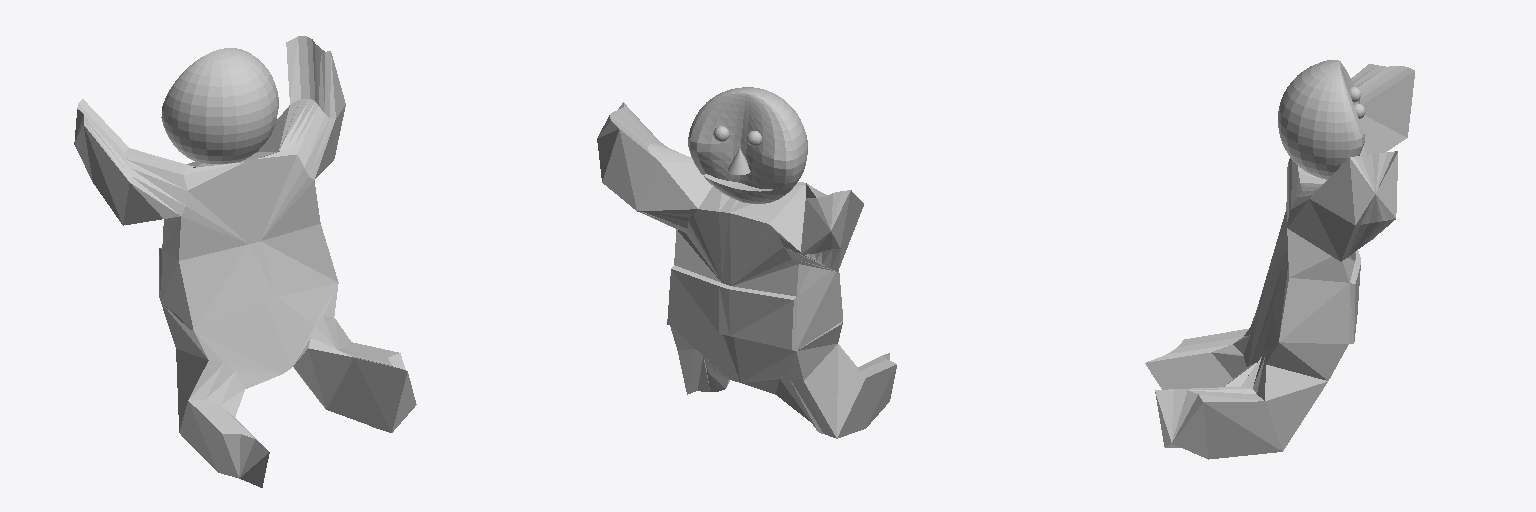
File: manjump_000017.obj
3 views of the same model, side by side, from view 1: azimuth 30°, elevation 25°; view 2: azimuth 150°, elevation 25°; view 3: azimuth 270°, elevation 25° (orthographic).
Parts seen in each view (by area): view 1: Cube; view 2: Cube; view 3: Cube.
Boxes of the visible parts, box(x1,y1,x2,y2) form: Cube: box(74, 36, 416, 487); Cube: box(597, 87, 896, 438); Cube: box(1145, 60, 1414, 459).
Size of the model in its own units: 79.89 by 112 by 73.36.